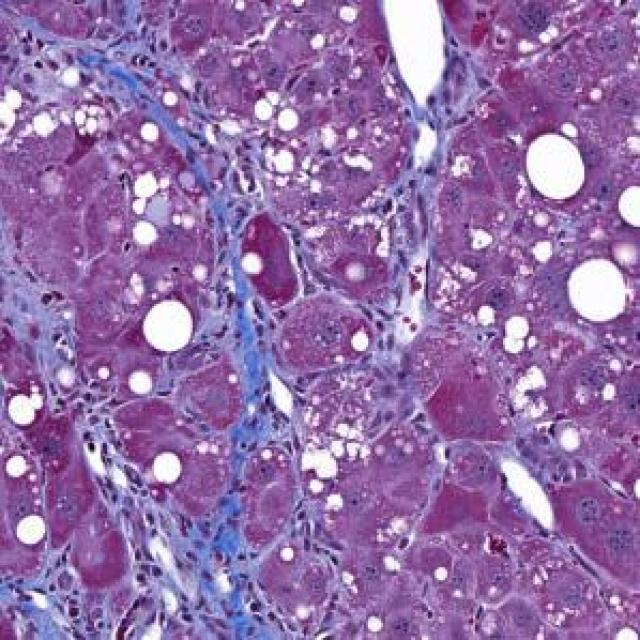fibrosis: (85, 445, 282, 636), (208, 283, 321, 535), (137, 73, 291, 231)
